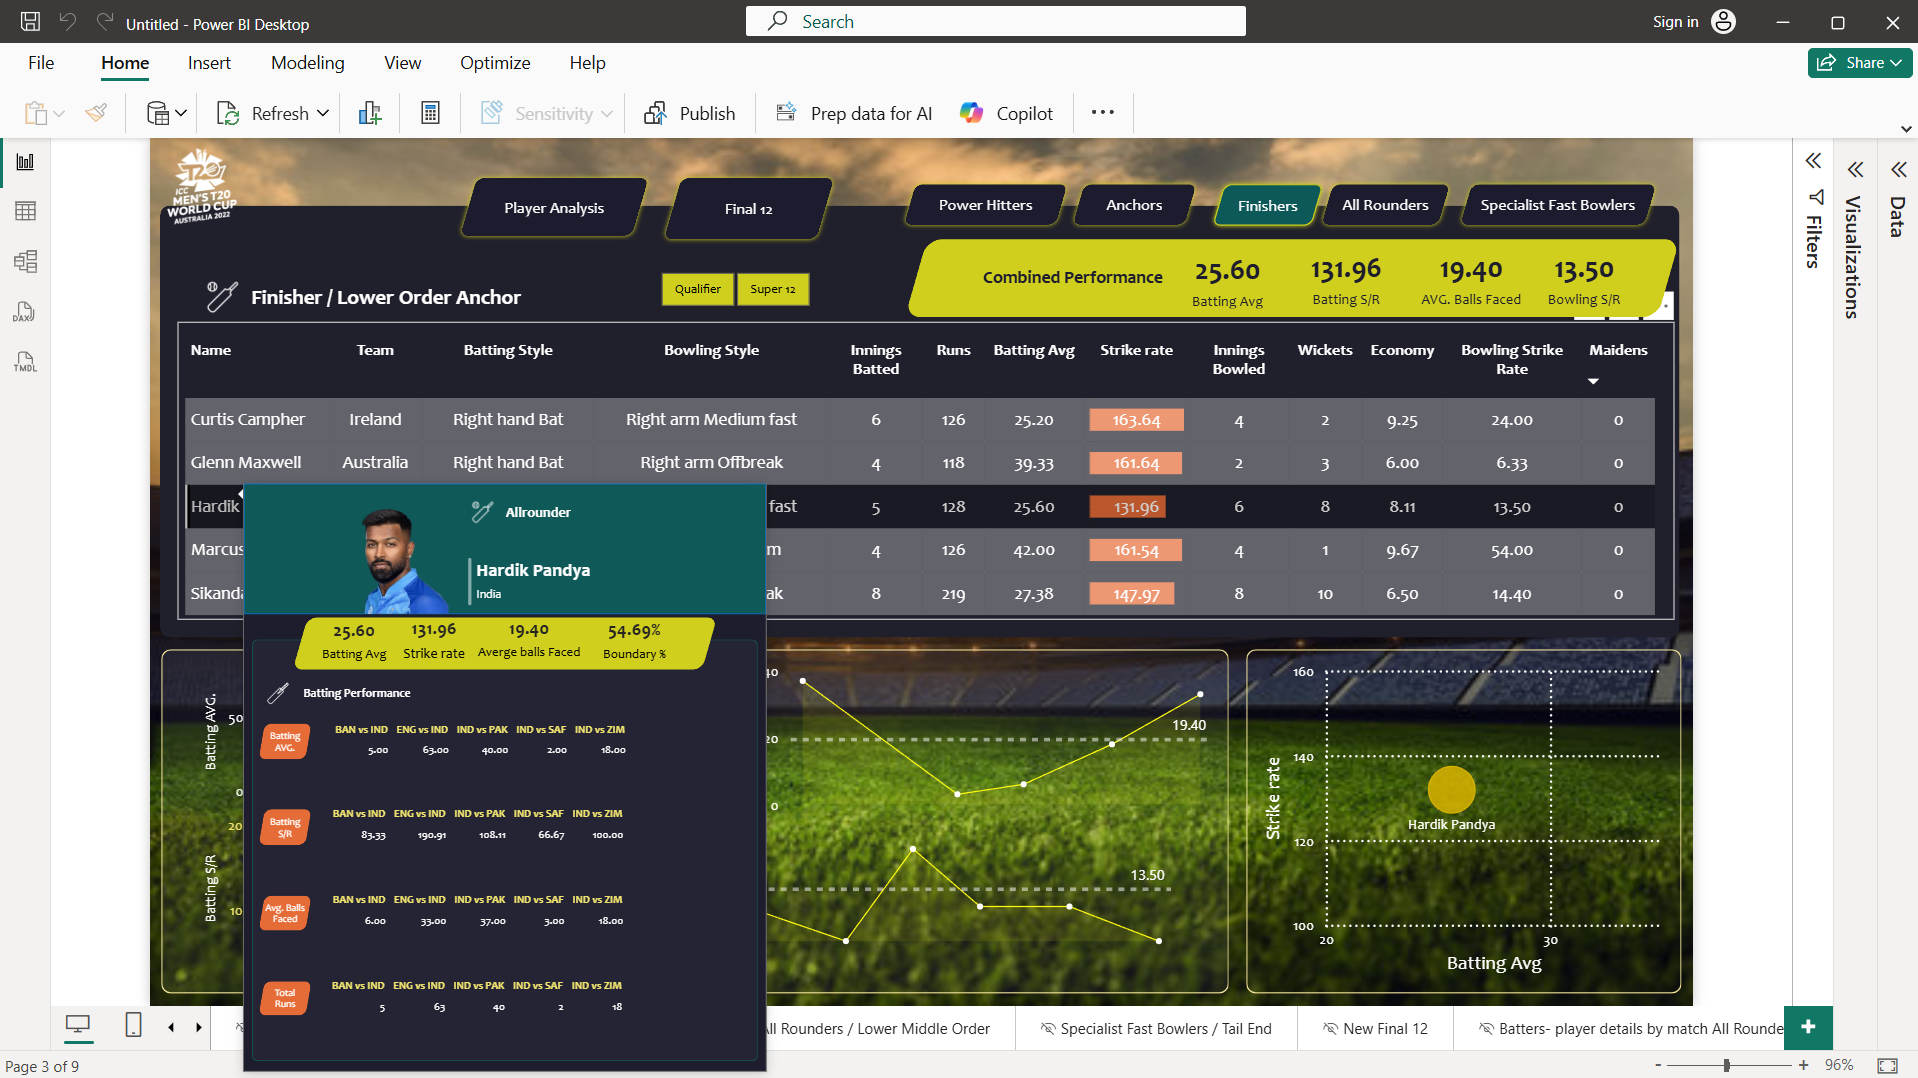

This screenshot's page, from the dashboard's own definition file:
{"tool":"powerbi","page":{"name":"Finisher / Lower Order Anchor","canvas":[1280,720],"ordinal":2},"visuals":[{"type":"card","fields":{"Values":["Key_Measures.Batting Avg"]},"box":[846,86,96,60.4],"z":0},{"type":"shape","box":[84.1,116.4,258.9,31.2],"z":0,"group":"g1"},{"type":"card","fields":{"Values":["Key_Measures.Strike rate"]},"box":[944,85,96,60],"z":1000},{"type":"image","box":[38,114,43.8,36],"z":1000,"group":"g1"},{"type":"card","fields":{"Values":["Key_Measures.Averge balls Faced"]},"box":[1048,85,107,60.4],"z":2000},{"type":"shape","box":[8,56,1259.7,358.1],"z":3000},{"type":"tableEx","fields":{"Values":["dim_player.name","Min(dim_player.team)","Min(dim_player.Batting Style)","Min(dim_player.Bowling Style)","Key_Measures.Total Innings Batted","Key_Measures.Total Runs","Key_Measures.Bat Avg","Key_Measures.Strike rate","Key_Measures.Total Innings Bowled","Key_Measures.wickets","Key_Measures.Economy","Key_Measures.Bowling Strike Rate"]},"box":[23,152,1241,248],"z":4000},{"type":"group","id":"g1","title":"Group 2","box":[38,114,305,36],"z":5000},{"type":"actionButton","box":[876.8,34.3,100.2,42.5],"z":6000},{"type":"actionButton","box":[621,34,144,42],"z":7000},{"type":"actionButton","box":[761,34,111,42],"z":8000},{"type":"actionButton","box":[1082,34,171,42],"z":9000},{"type":"actionButton","box":[967,34,115,42],"z":10000},{"type":"shape","box":[626,84,642.2,64.5],"z":11000},{"type":"card","fields":{"Values":["Key_Measures.Batting Avg"]},"box":[846,86,96,60],"z":12000},{"type":"card","fields":{"Values":["Key_Measures.Strike rate"]},"box":[944,85,96,60],"z":13000},{"type":"card","fields":{"Values":["Key_Measures.Averge balls Faced"]},"box":[1048,85,96,60],"z":14000},{"type":"card","fields":{"Values":["Key_Measures.Bowling Strike Rate"]},"box":[1136,85,107,60],"z":15000},{"type":"shape","box":[679.2,98.8,172.9,34.3],"z":16000},{"type":"shape","box":[664.2,87.8,566.7,48],"z":17000},{"type":"shape","box":[908.4,424,360.9,285.4],"z":18000},{"type":"scatterChart","fields":{"Y":["Key_Measures.Strike rate"],"Category":["dim_player.name"],"X":["Key_Measures.Bat Avg"],"Size":["Key_Measures.Strike rate"]},"box":[918,428,348,270],"z":19000},{"type":"shape","box":[9.6,424,885.1,285.4],"z":20000},{"type":"areaChart","fields":{"Category":["dim_match_summary.Match_Date.Variation.Date Hierarchy.Day"],"Y":["Key_Measures.Bat Avg"]},"box":[40,428.9,395.6,126.7],"z":21000},{"type":"areaChart","fields":{"Y":["Key_Measures.Averge balls Faced"],"Category":["dim_match_summary.matchDate"]},"box":[484.4,428.1,402.1,138.6],"z":22000},{"type":"areaChart","fields":{"Category":["dim_match_summary.Match_Date.Variation.Date Hierarchy.Day"],"Y":["Key_Measures.Strike rate"]},"box":[40,555.6,396.7,125.6],"z":23000},{"type":"areaChart","fields":{"Category":["dim_match_summary.Match_Date.Variation.Date Hierarchy.Day"],"Y":["Key_Measures.Bowling Strike Rate"]},"box":[446,556,406,126],"z":24000},{"type":"actionButton","title":"Button Player Ana selected","box":[252.5,28.8,164.7,56.3],"z":25000},{"type":"actionButton","title":"Button Player Ana selected","box":[421.3,28.8,149.6,59],"z":26000},{"type":"image","box":[9.6,2.7,67.2,74.1],"z":27000},{"type":"slicer","fields":{"Values":["dim_match_summary.stage"]},"box":[397.9,104.3,172.9,41.2],"z":28000}]}

Visuals, with their boxes on the page's 1280x720 design canvas (x1, y1, x2, y2). These are canvas units, not pixel positions in the 1918x1078 screenshot, which may show the page scaled, cropped or inside an application window:
card - Key_Measures.Batting Avg: 846,86,942,146
shape: 84,116,343,148
card - Key_Measures.Strike rate: 944,85,1040,145
image: 38,114,82,150
card - Key_Measures.Averge balls Faced: 1048,85,1155,145
shape: 8,56,1268,414
tableEx - dim_player.name x Min(dim_player.team): 23,152,1264,400
"Group 2" group: 38,114,343,150
actionButton: 877,34,977,77
actionButton: 621,34,765,76
actionButton: 761,34,872,76
actionButton: 1082,34,1253,76
actionButton: 967,34,1082,76
shape: 626,84,1268,148
card - Key_Measures.Batting Avg: 846,86,942,146
card - Key_Measures.Strike rate: 944,85,1040,145
card - Key_Measures.Averge balls Faced: 1048,85,1144,145
card - Key_Measures.Bowling Strike Rate: 1136,85,1243,145
shape: 679,99,852,133
shape: 664,88,1231,136
shape: 908,424,1269,709
scatterChart - Key_Measures.Strike rate x dim_player.name: 918,428,1266,698
shape: 10,424,895,709
areaChart - dim_match_summary.Match_Date.Variation.Date Hierarchy.Day x Key_Measures.Bat Avg: 40,429,436,556
areaChart - Key_Measures.Averge balls Faced x dim_match_summary.matchDate: 484,428,886,567
areaChart - dim_match_summary.Match_Date.Variation.Date Hierarchy.Day x Key_Measures.Strike rate: 40,556,437,681
areaChart - dim_match_summary.Match_Date.Variation.Date Hierarchy.Day x Key_Measures.Bowling Strike Rate: 446,556,852,682
"Button Player Ana selected" actionButton: 252,29,417,85
"Button Player Ana selected" actionButton: 421,29,571,88
image: 10,3,77,77
slicer - dim_match_summary.stage: 398,104,571,146
